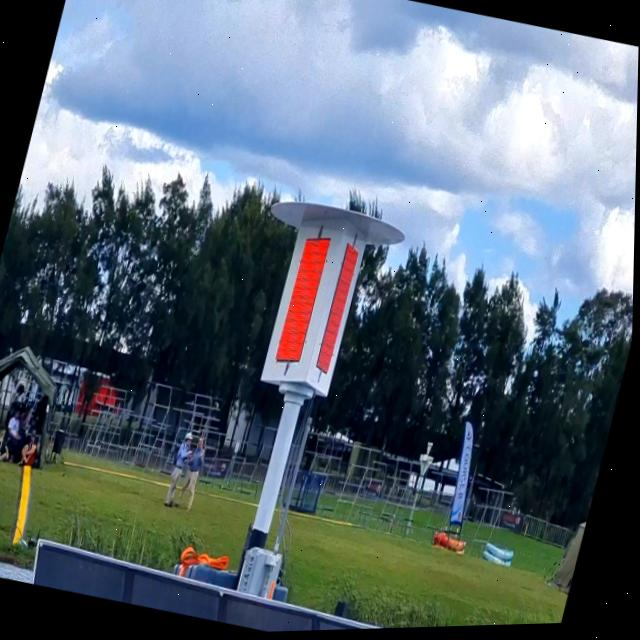led: (268, 227, 335, 373), (309, 234, 367, 385)
